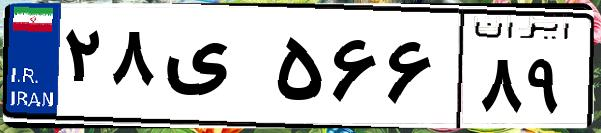2: (57, 26, 110, 100)
5: (270, 28, 330, 110)
6: (385, 28, 445, 110), (330, 28, 385, 110)
8: (475, 38, 525, 113), (110, 28, 158, 98)
9: (525, 38, 570, 115)
ی: (158, 20, 270, 120)
